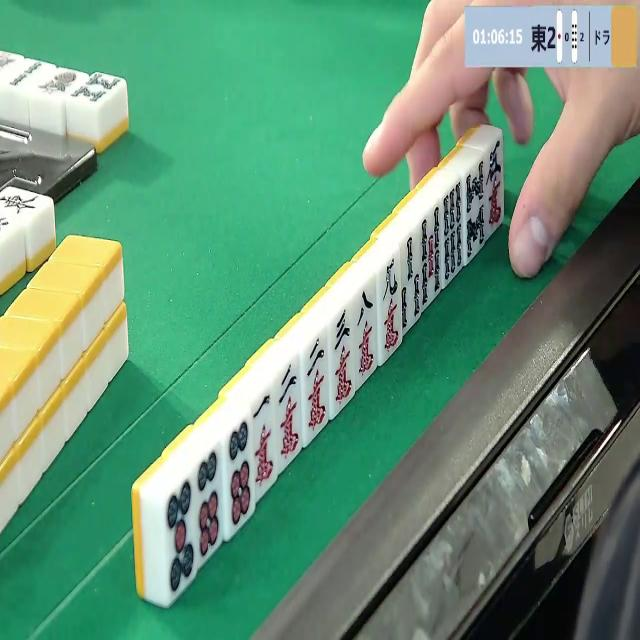m1: (253, 389, 278, 491)
m2: (302, 332, 328, 439), (276, 358, 302, 464)
m5: (487, 138, 503, 232)
m6: (332, 308, 356, 410)
m8: (355, 285, 378, 383)
m9: (378, 251, 400, 359)
s3: (403, 230, 422, 330)
s5: (418, 210, 442, 310)
s6: (443, 183, 465, 284)
s8: (464, 161, 485, 264)
t5: (166, 476, 196, 600)
t6: (195, 446, 226, 563), (226, 416, 255, 534)
